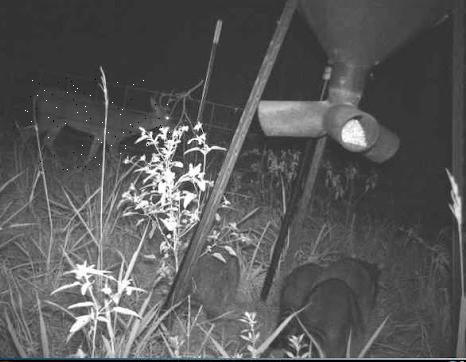Deer: (25, 78, 180, 172)
